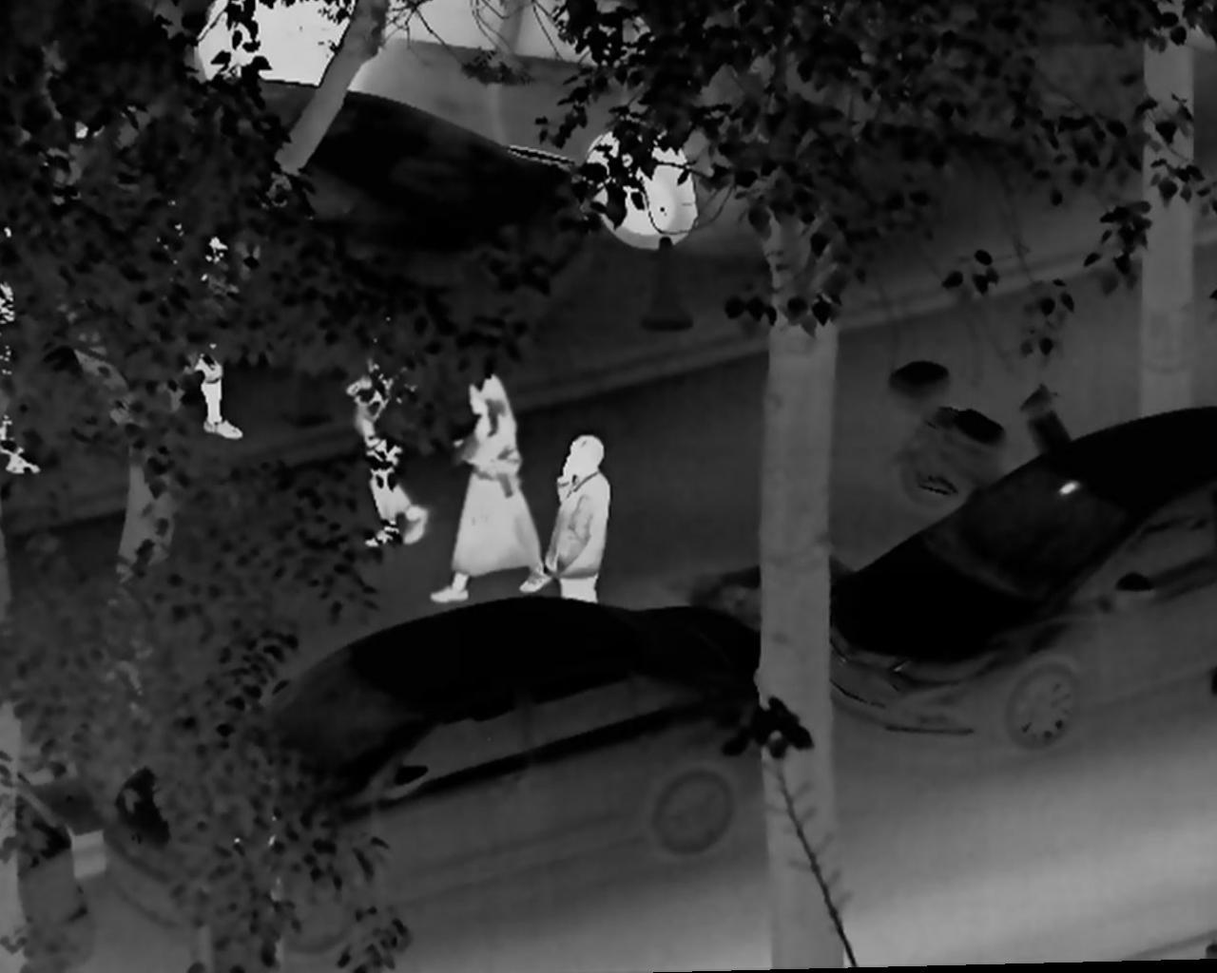person: (423, 370, 548, 597), (343, 290, 429, 555), (167, 203, 249, 439), (544, 430, 615, 612)
